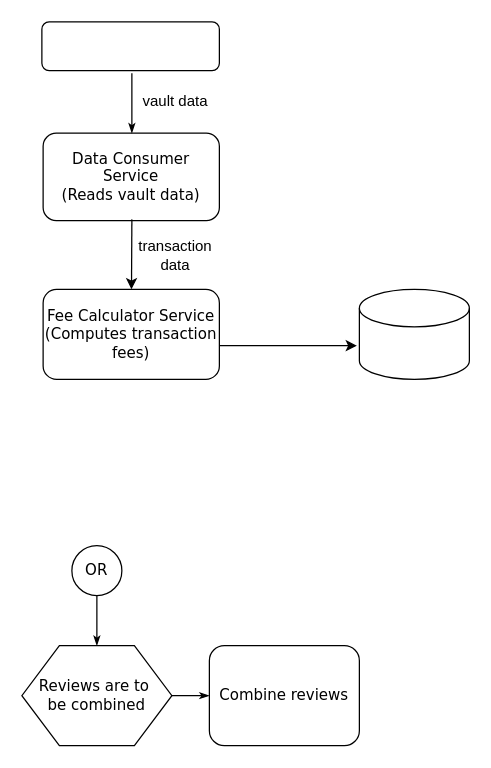
Image size: 491x768. Some labels were removed from this diagram. Here are the shapes that lost their labels. From the top down, the centre of each, then its label:
(x=130, y=46): Vault Service
(x=413, y=333): Database
